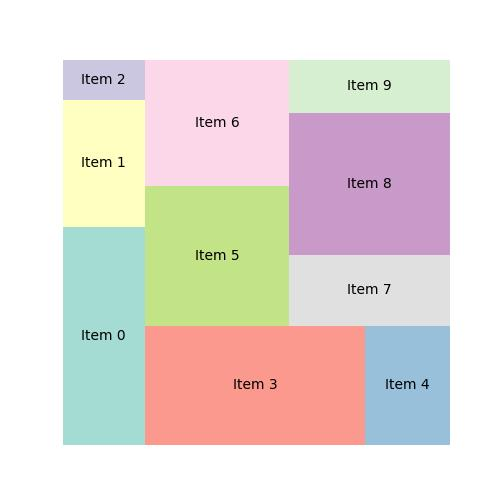rectangle: (146, 326, 366, 446), (289, 115, 450, 257), (146, 184, 289, 326), (145, 60, 290, 184), (64, 227, 145, 446), (290, 256, 449, 326), (64, 99, 146, 228), (366, 326, 451, 446), (290, 60, 450, 114), (64, 60, 145, 101)
